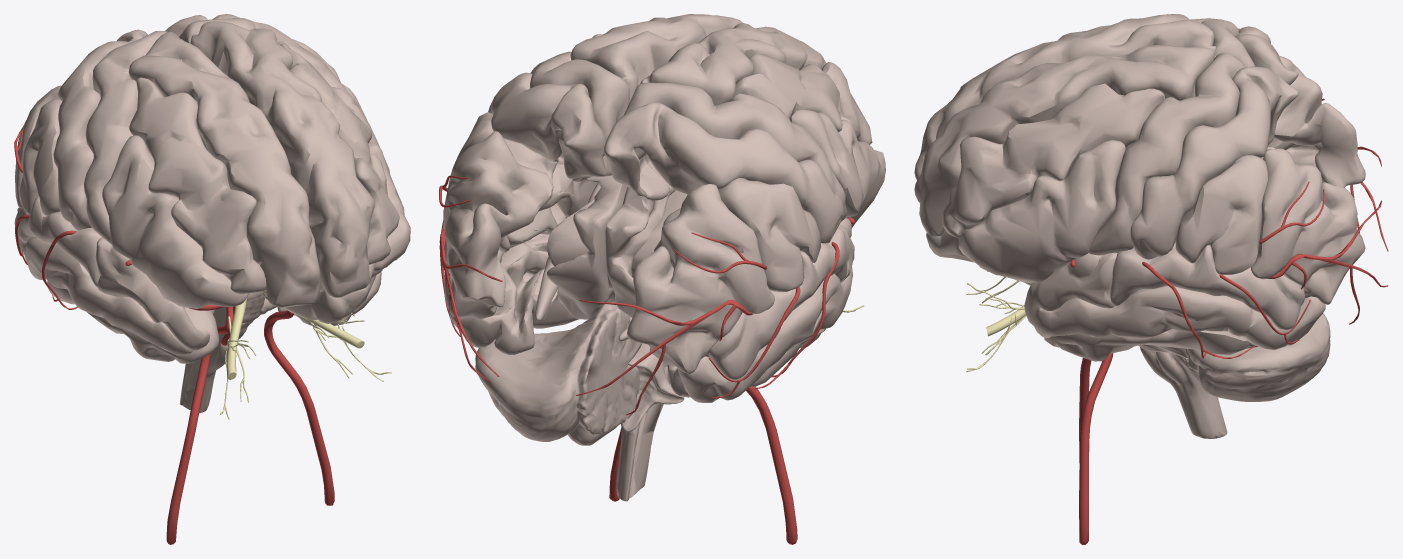
File: neurologi.glb
The picture shows the model from 3 angles, left to right: view 1: azimuth 30°, elevation 25°; view 2: azimuth 150°, elevation 25°; view 3: azimuth 270°, elevation 25°; orthographic projection. The views are drawn at different scales.
Parts seen in each view (by area): view 1: Right superior frontal gyrus, Left superior frontal gyrus, Right middle frontal gyrus, Right inferior frontal gyrus, Right precentral gyrus, Right postcentral gyrus, Right middle temporal gyrus, Left middle frontal gyrus, Anterior part of right superior temporal gyrus, Right supramarginal gyrus, Posterior part of right superior temporal gyrus, Right inferior temporal gyrus (+11 smaller); view 2: Right angular gyrus, Cerebellum, Right postcentral gyrus, Left angular gyrus, Left postcentral gyrus, Right precentral gyrus, Right superior frontal gyrus, Right supramarginal gyrus, Left superior frontal gyrus, Right middle frontal gyrus, Left cingulate gyrus, Right middle temporal gyrus (+20 smaller); view 3: Left superior frontal gyrus, Left middle frontal gyrus, Left inferior frontal gyrus, Left angular gyrus, Left postcentral gyrus, Left middle temporal gyrus, Left precentral gyrus, Right superior frontal gyrus, Left supramarginal gyrus, Posterior part of left superior temporal gyrus, Cerebellum, Right angular gyrus (+10 smaller).
Boxes of the visible parts, bbox=[...] form: Right superior frontal gyrus: bbox=[128, 32, 320, 307]; Left superior frontal gyrus: bbox=[190, 21, 374, 297]; Right middle frontal gyrus: bbox=[129, 77, 266, 294]; Right inferior frontal gyrus: bbox=[102, 135, 248, 309]; Right precentral gyrus: bbox=[84, 31, 168, 245]; Right postcentral gyrus: bbox=[53, 29, 147, 229]; Right middle temporal gyrus: bbox=[24, 237, 192, 355]; Left middle frontal gyrus: bbox=[280, 43, 399, 264]; Anterior part of right superior temporal gyrus: bbox=[95, 237, 209, 350]; Right supramarginal gyrus: bbox=[19, 99, 62, 215]; Posterior part of right superior temporal gyrus: bbox=[14, 196, 101, 287]; Right inferior temporal gyrus: bbox=[47, 280, 218, 363]; Right angular gyrus: bbox=[627, 184, 774, 373]; Cerebellum: bbox=[475, 302, 641, 445]; Right postcentral gyrus: bbox=[604, 102, 843, 243]; Left angular gyrus: bbox=[443, 131, 552, 319]; Left postcentral gyrus: bbox=[488, 72, 606, 178]; Right precentral gyrus: bbox=[624, 82, 847, 221]; Right superior frontal gyrus: bbox=[640, 23, 826, 194]; Right supramarginal gyrus: bbox=[687, 178, 820, 291]; Left superior frontal gyrus: bbox=[570, 14, 742, 102]; Right middle frontal gyrus: bbox=[731, 53, 872, 144]; Left cingulate gyrus: bbox=[547, 175, 627, 319]; Right middle temporal gyrus: bbox=[677, 267, 852, 402]; Left superior frontal gyrus: bbox=[914, 45, 1215, 236]; Left middle frontal gyrus: bbox=[942, 83, 1165, 237]; Left inferior frontal gyrus: bbox=[958, 140, 1125, 282]; Left angular gyrus: bbox=[1251, 148, 1365, 304]; Left postcentral gyrus: bbox=[1130, 66, 1298, 259]; Left middle temporal gyrus: bbox=[1032, 286, 1325, 349]; Left precentral gyrus: bbox=[1088, 52, 1244, 255]; Right superior frontal gyrus: bbox=[914, 14, 1215, 180]; Left supramarginal gyrus: bbox=[1175, 155, 1268, 274]; Posterior part of left superior temporal gyrus: bbox=[1110, 242, 1304, 330]; Cerebellum: bbox=[1185, 313, 1330, 401]; Right angular gyrus: bbox=[1268, 55, 1365, 187].
Bounding box in the file's own units: 1.45 × 2 × 1.83.
